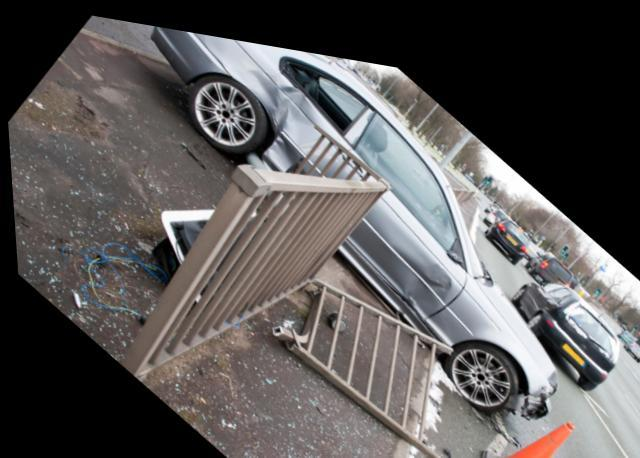dent: (250, 63, 311, 162), (388, 230, 448, 303)
no part: (487, 354, 551, 404)
